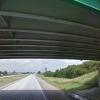Bridge: (4, 5, 97, 72)
